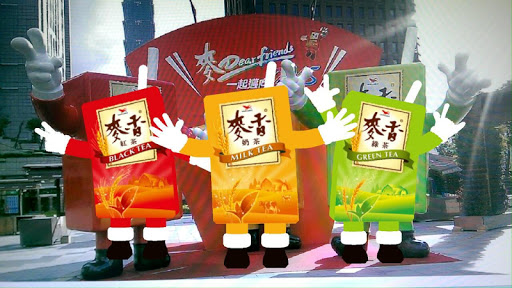milk tea: (212, 90, 294, 222)
